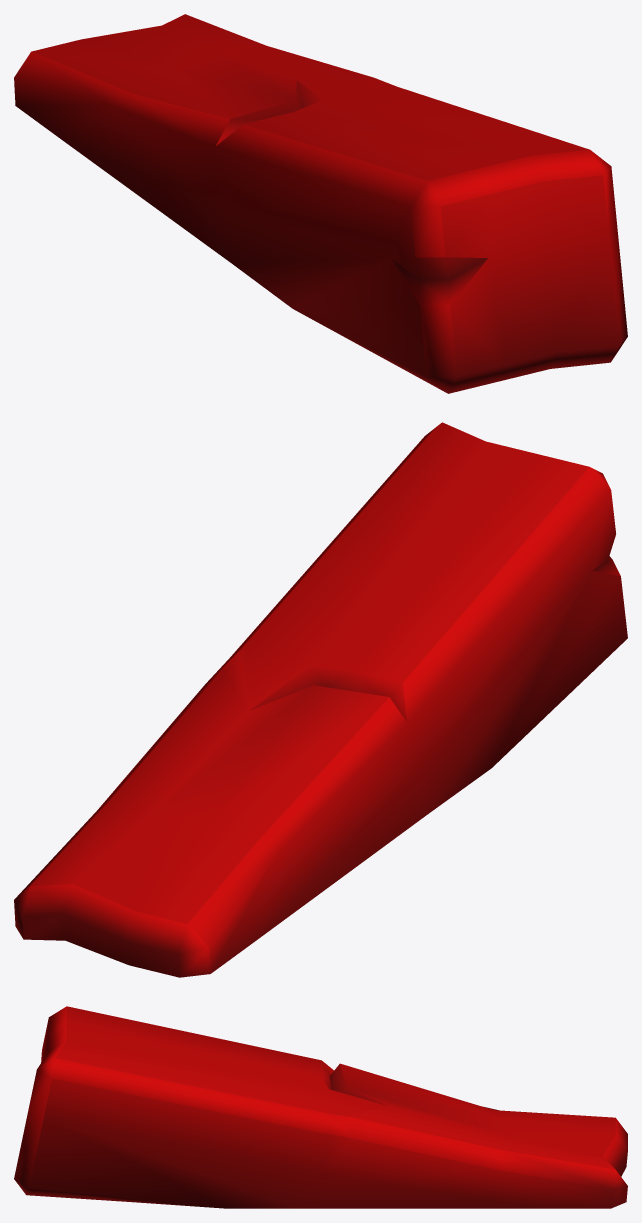
The model's file is buildings-ruins-ancientruins_v5.fbx.
The picture shows the model from 3 angles, top to bottom: view 1: azimuth 30°, elevation 25°; view 2: azimuth 150°, elevation 25°; view 3: azimuth 270°, elevation 25°; orthographic projection. The views are drawn at different scales.
Visible parts, largest first — view 1: AncientRuins_v5; view 2: AncientRuins_v5; view 3: AncientRuins_v5.
Part boxes in pixels (x1,y1,x2,y2): AncientRuins_v5: (14, 14, 627, 393); AncientRuins_v5: (14, 422, 627, 977); AncientRuins_v5: (14, 1006, 627, 1208).
Bounding box in the file's own units: 1.64 × 1.7 × 6.57.
